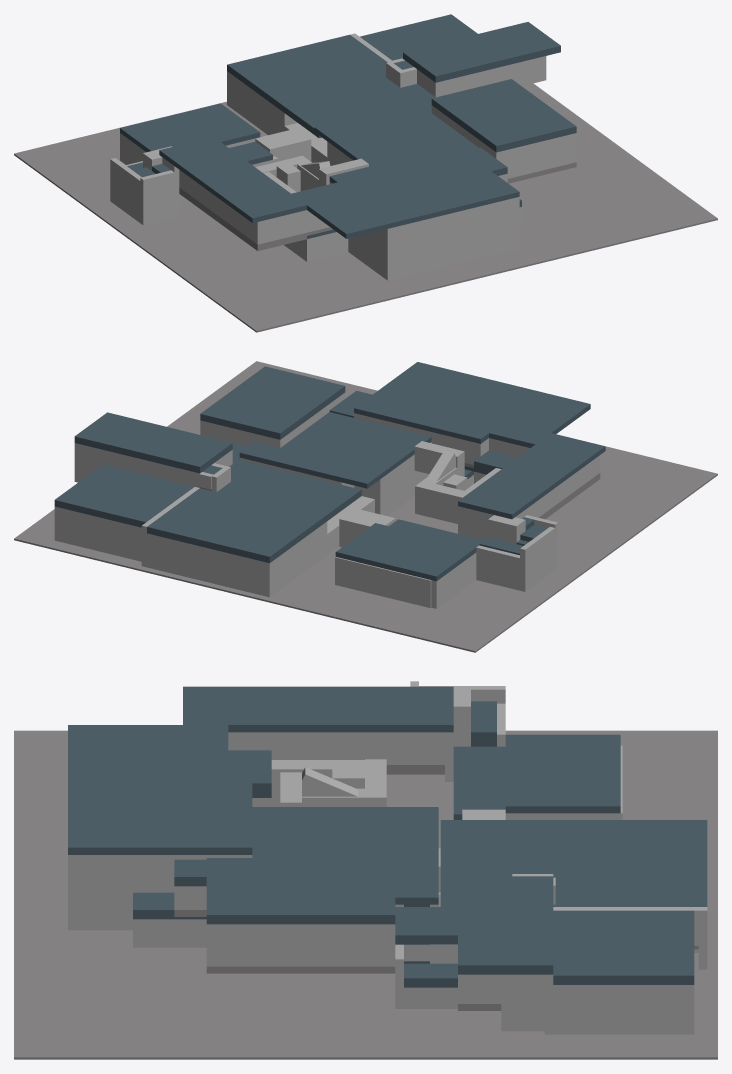
File: thefacility2.gltf
The picture shows the model from 3 angles, top to bottom: view 1: azimuth 30°, elevation 25°; view 2: azimuth 150°, elevation 25°; view 3: azimuth 270°, elevation 25°; orthographic projection. The views are drawn at different scales.
Visible parts, largest first — view 1: Part (×27); view 2: Part (×36); view 3: Part (×37).
Part boxes in pixels (x1,y1,x2,y2): Part (×27): (14, 14, 717, 332); Part (×36): (14, 361, 717, 652); Part (×37): (14, 686, 717, 1059).
Size of the model in its own units: 357 by 46.8 by 325.
